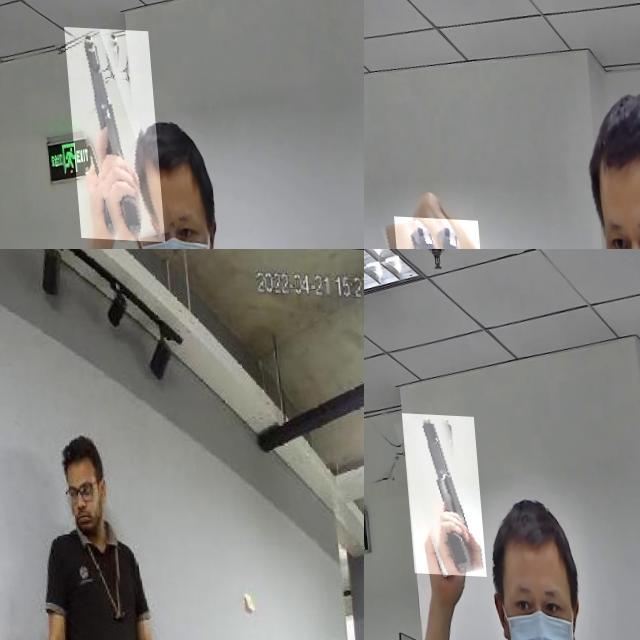gun-knife-thesis - v11 Yolov5 augmented: (60, 25, 158, 240), (398, 411, 480, 574)
